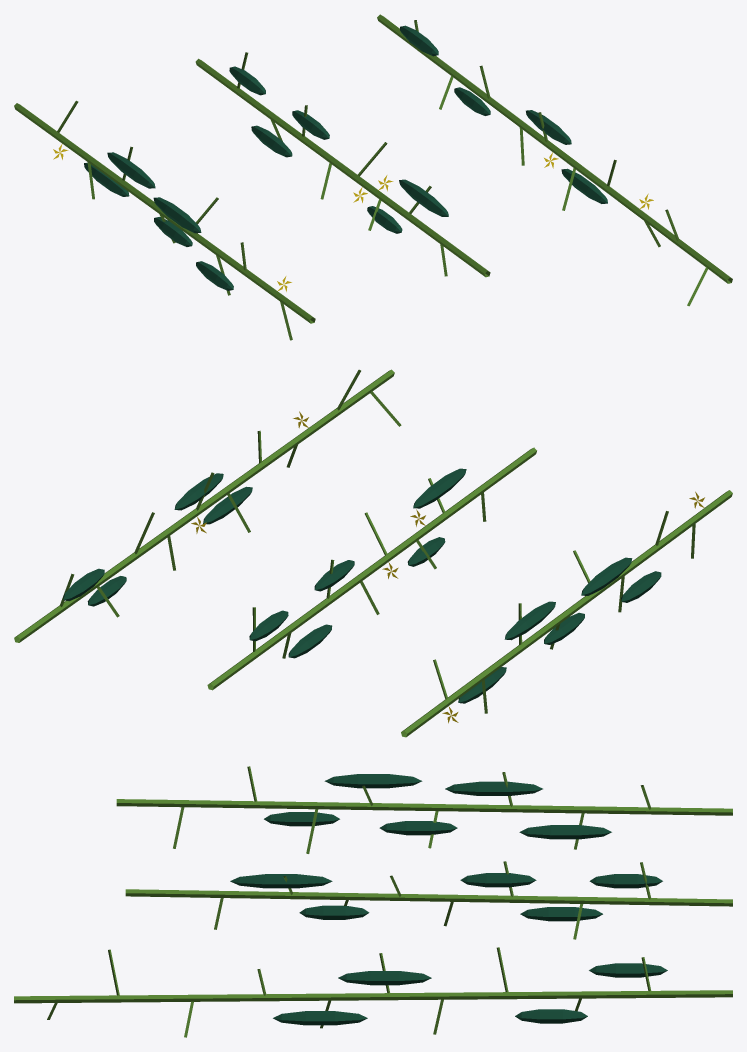
Rendered from r7c5_stems.obj.
3 views of the same model, one above another, from view 1: azimuth 30°, elevation 25°; view 2: azimuth 150°, elevation 25°; view 3: azimuth 270°, elevation 25° (orthographic). The views are drawn at different scales.
Visible parts, largest first — view 1: r7c5_stems; view 2: r7c5_stems; view 3: r7c5_stems.
Part boxes in pixels (x1=…): r7c5_stems: x1=14, y1=14, x2=732, y2=340; r7c5_stems: x1=14, y1=369, x2=732, y2=737; r7c5_stems: x1=14, y1=766, x2=732, y2=1037.
Size of the model in its own units: 1.37 by 0.2747 by 2.09.
